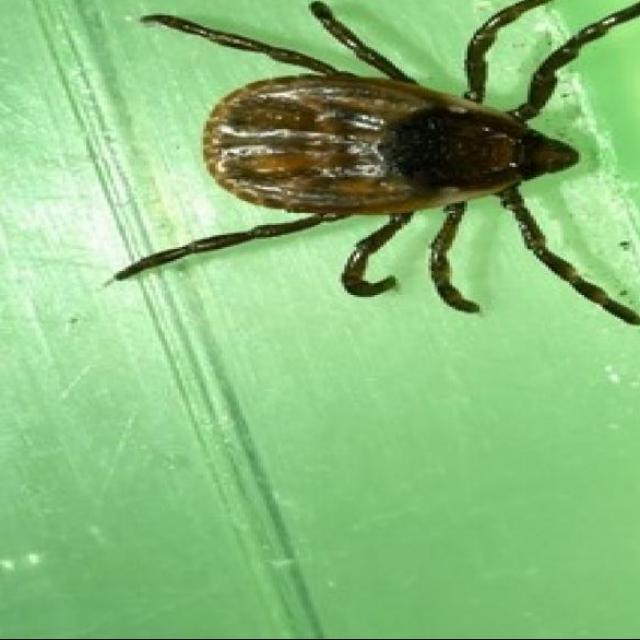Rhipicephalus Sanguineus-F: (116, 0, 640, 326)
